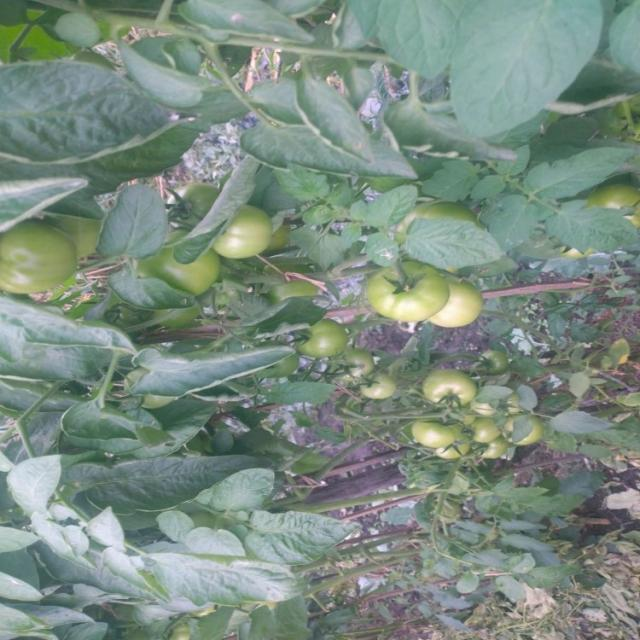tomato: (360, 256, 452, 329), (1, 222, 77, 296), (145, 244, 224, 296), (211, 205, 273, 264), (423, 280, 480, 332), (169, 181, 225, 223), (423, 370, 477, 411), (583, 179, 640, 210), (305, 322, 349, 362), (414, 418, 466, 446), (464, 416, 512, 445), (335, 348, 374, 382), (503, 413, 542, 446), (361, 374, 401, 403), (484, 391, 523, 419), (274, 282, 322, 299), (431, 442, 468, 463)
